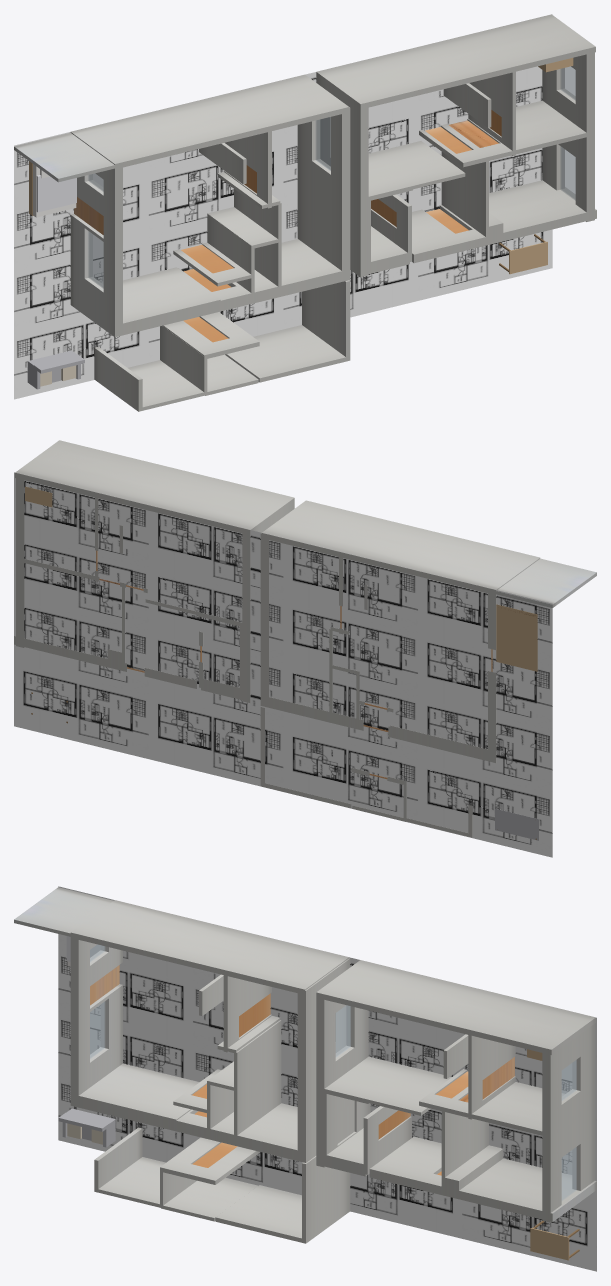
The picture shows the model from 3 angles, top to bottom: view 1: azimuth 30°, elevation 25°; view 2: azimuth 150°, elevation 25°; view 3: azimuth 330°, elevation 25°; orthographic projection.
Parts seen in each view (by area): view 1: WallMesh, Floor, DoorMesh, WindowMesh, Furniture_2, Furniture_0, Furniture_1; view 2: Floor, WallMesh, Furniture_2, Furniture_0; view 3: WallMesh, Floor, DoorMesh, WindowMesh, Furniture_0, Furniture_1.
Boxes of the visible parts, x1,y1,x2,y2 form: WallMesh: (14, 14, 596, 411); Floor: (14, 14, 552, 399); DoorMesh: (74, 110, 501, 342); WindowMesh: (88, 66, 575, 288); Furniture_2: (29, 161, 76, 217); Furniture_0: (27, 350, 84, 389); Furniture_1: (499, 234, 547, 274); Floor: (14, 472, 552, 857); WallMesh: (14, 440, 596, 837); Furniture_2: (496, 604, 537, 671); Furniture_0: (495, 808, 538, 840); WallMesh: (14, 887, 596, 1243); Floor: (58, 886, 596, 1271); DoorMesh: (90, 965, 514, 1175); WindowMesh: (90, 944, 576, 1200); Furniture_0: (58, 1108, 115, 1147); Furniture_1: (530, 1221, 579, 1260).
Size of the model in its own units: 19.65 by 8.85 by 2.8.
Materials: 8 (3 with a texture image).
